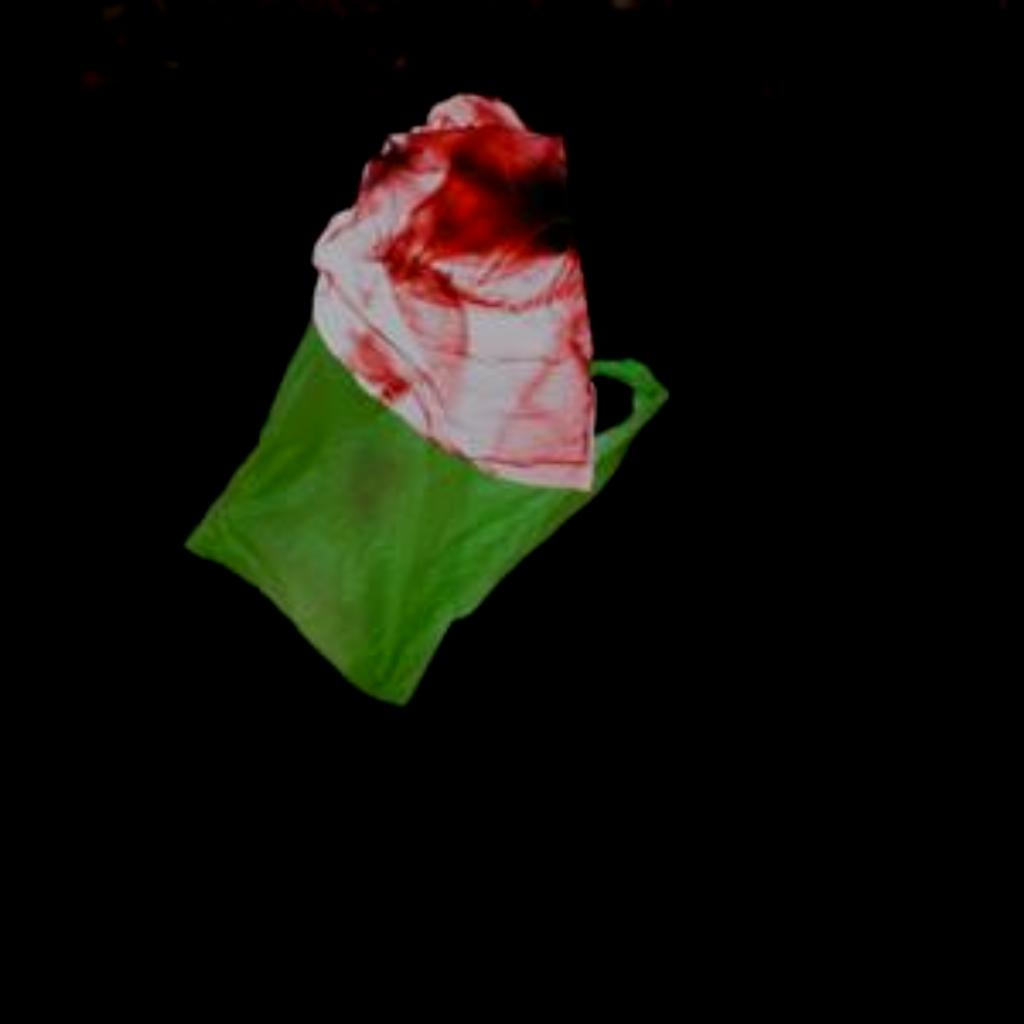garbage: (157, 222, 652, 730), (295, 96, 606, 492)
